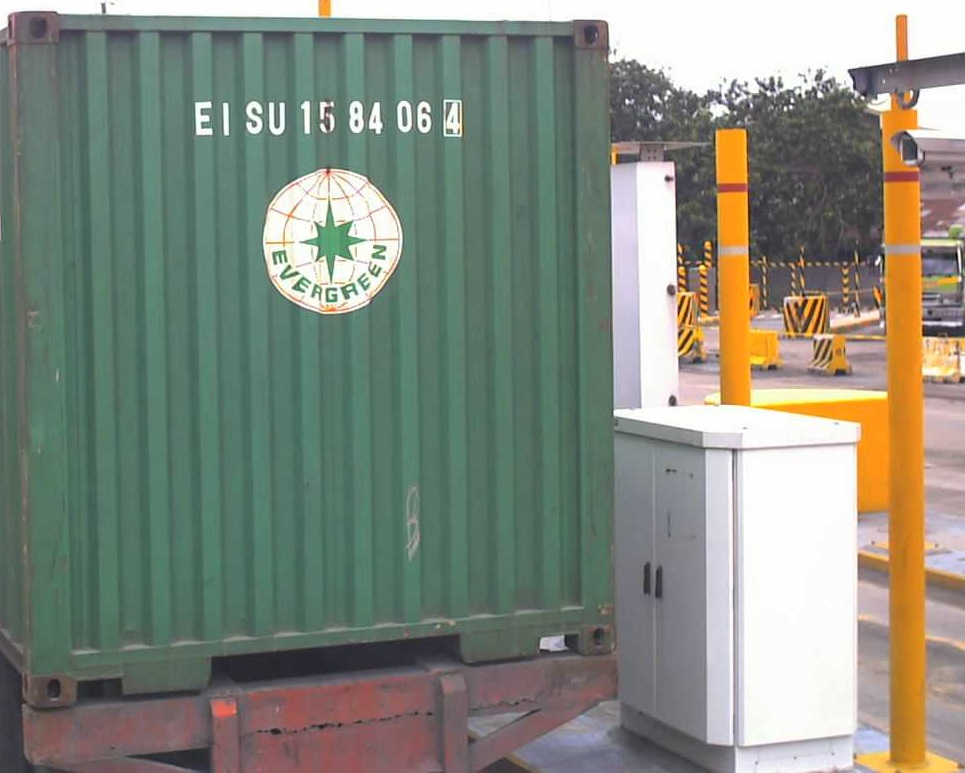container_no_door: (12, 9, 622, 666)
